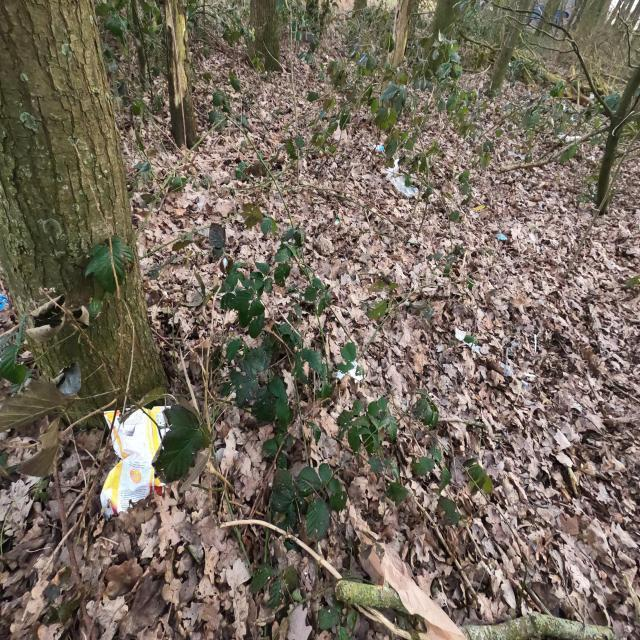Paper: (386, 158, 419, 199), (336, 361, 366, 384)
Plastic: (100, 405, 172, 522), (498, 361, 513, 377), (495, 232, 508, 242), (372, 144, 384, 152), (473, 204, 485, 211)
